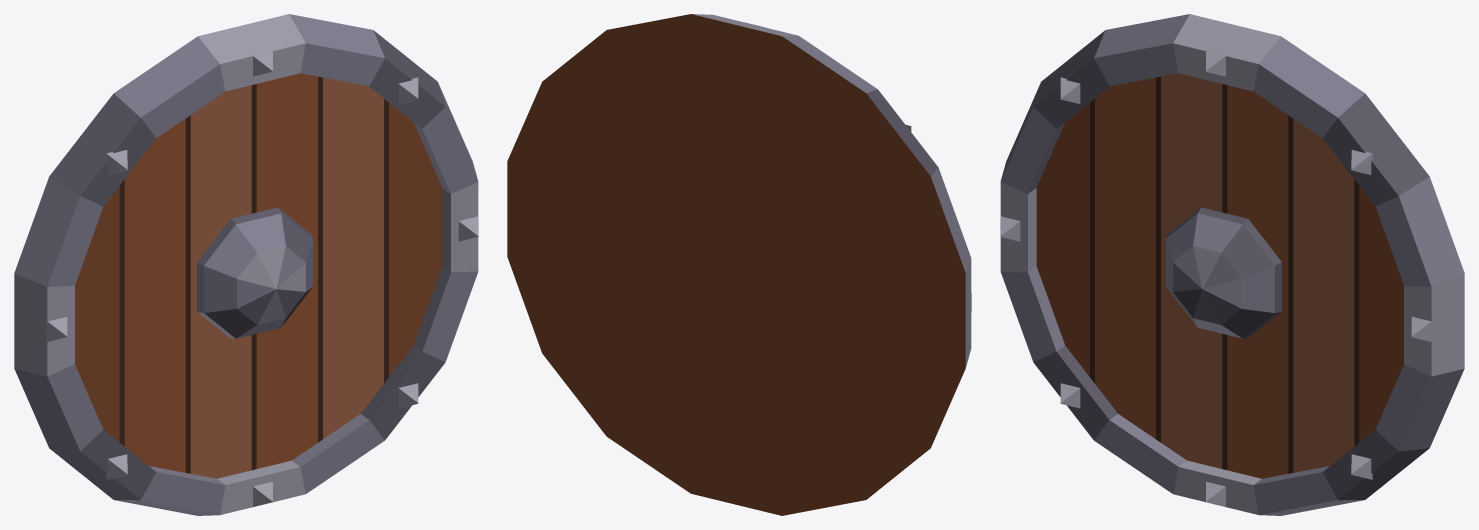
The model's file is shield.glb.
The picture shows the model from 3 angles, left to right: view 1: azimuth 30°, elevation 25°; view 2: azimuth 150°, elevation 25°; view 3: azimuth 330°, elevation 25°; orthographic projection.
Visible parts, largest first — view 1: shield; view 2: shield; view 3: shield.
Part boxes in pixels (x1,y1,x2,y2): shield: (14, 14, 478, 515); shield: (507, 14, 971, 515); shield: (1000, 14, 1464, 515).
Size of the model in its own units: 0.7356 by 0.7356 by 0.092.
